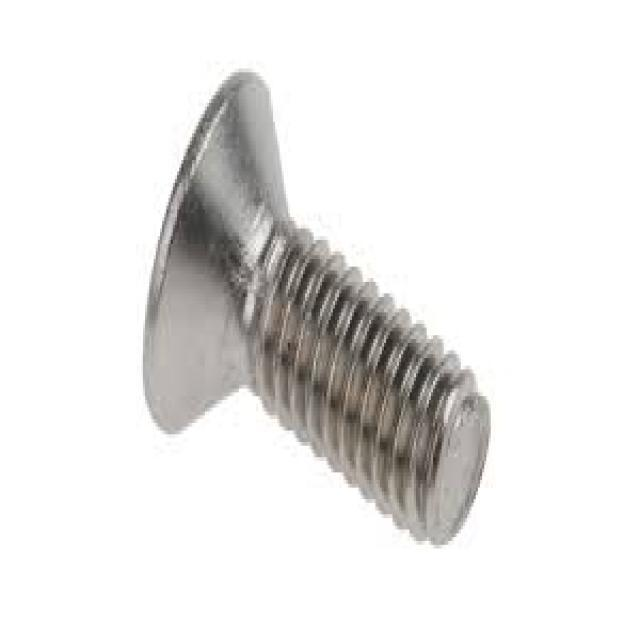Screw: (143, 72, 491, 552)
